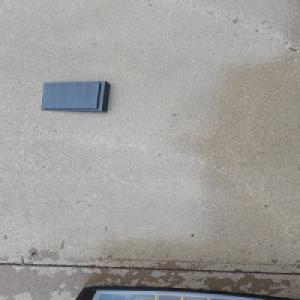PlasticPart: (39, 80, 111, 113)
